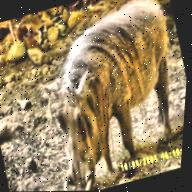boar: (9, 0, 192, 192)
